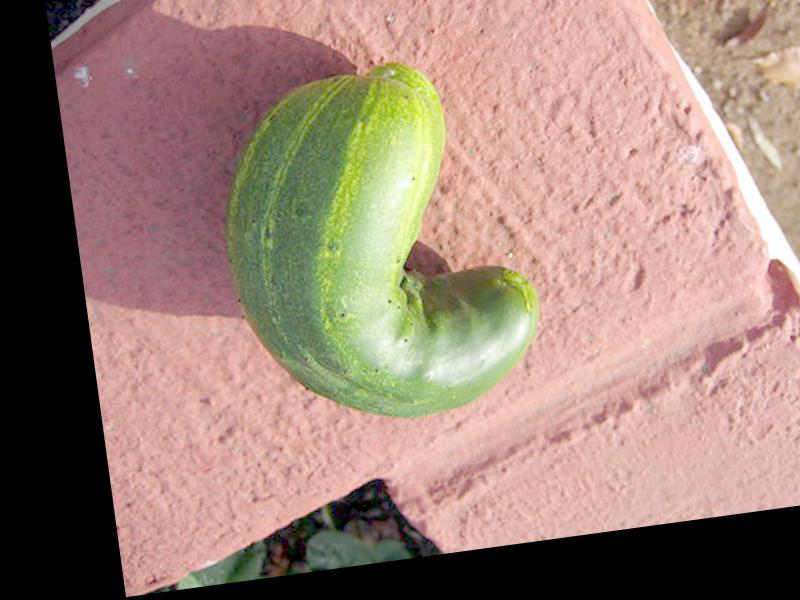Cucumber: (207, 49, 554, 438)
